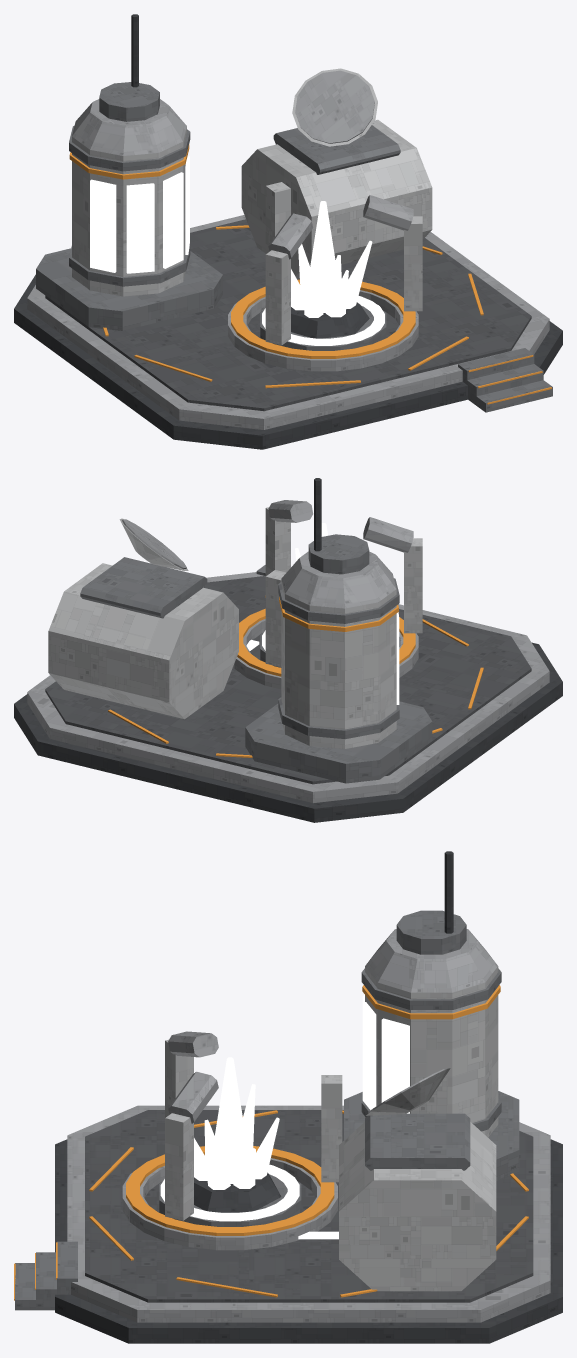
Rendered from rig_crystal_lod2.glb.
3 renders of one model, top to bottom at view 1: azimuth 30°, elevation 25°; view 2: azimuth 150°, elevation 25°; view 3: azimuth 270°, elevation 25°, orthographic. The views are drawn at different scales.
Visible parts, largest first — view 1: rig_crystal_base_body.002, rig_crystal_base_glow.002, rig_crystal_resonator_body.002, rig_crystal_dish_body.002, rig_crystal_resonator_trim.002, rig_crystal_base_trim.002; view 2: rig_crystal_base_body.002, rig_crystal_resonator_body.002, rig_crystal_base_trim.002, rig_crystal_dish_body.002, rig_crystal_resonator_trim.002, rig_crystal_base_glow.002; view 3: rig_crystal_base_body.002, rig_crystal_resonator_body.002, rig_crystal_base_glow.002, rig_crystal_resonator_trim.002, rig_crystal_base_trim.002, rig_crystal_dish_body.002.
Part boxes in pixels (<box>): rig_crystal_base_body.002: <box>14,14,562,449</box>; rig_crystal_base_glow.002: <box>90,156,384,345</box>; rig_crystal_resonator_body.002: <box>228,182,422,371</box>; rig_crystal_dish_body.002: <box>292,68,377,146</box>; rig_crystal_resonator_trim.002: <box>231,279,415,358</box>; rig_crystal_base_trim.002: <box>69,144,551,404</box>; rig_crystal_base_body.002: <box>14,478,562,822</box>; rig_crystal_resonator_body.002: <box>233,500,422,689</box>; rig_crystal_base_trim.002: <box>108,596,483,757</box>; rig_crystal_dish_body.002: <box>119,518,188,570</box>; rig_crystal_resonator_trim.002: <box>237,608,415,676</box>; rig_crystal_base_glow.002: <box>246,523,399,704</box>; rig_crystal_base_body.002: <box>15,851,562,1343</box>; rig_crystal_resonator_body.002: <box>122,1031,342,1250</box>; rig_crystal_base_glow.002: <box>160,994,409,1239</box>; rig_crystal_resonator_trim.002: <box>126,1146,334,1235</box>; rig_crystal_base_trim.002: <box>14,985,528,1300</box>; rig_crystal_dish_body.002: <box>366,1068,450,1115</box>.
Size of the model in its own units: 2.9 by 2.1 by 3.13.
3 materials, 1 textured.
